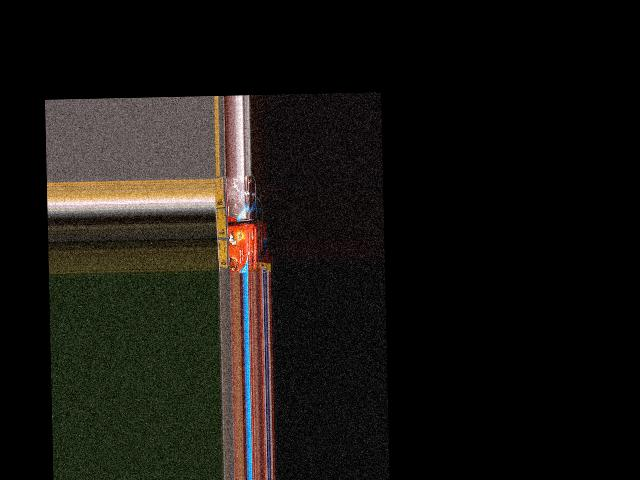chocolate: (221, 174, 248, 217)
